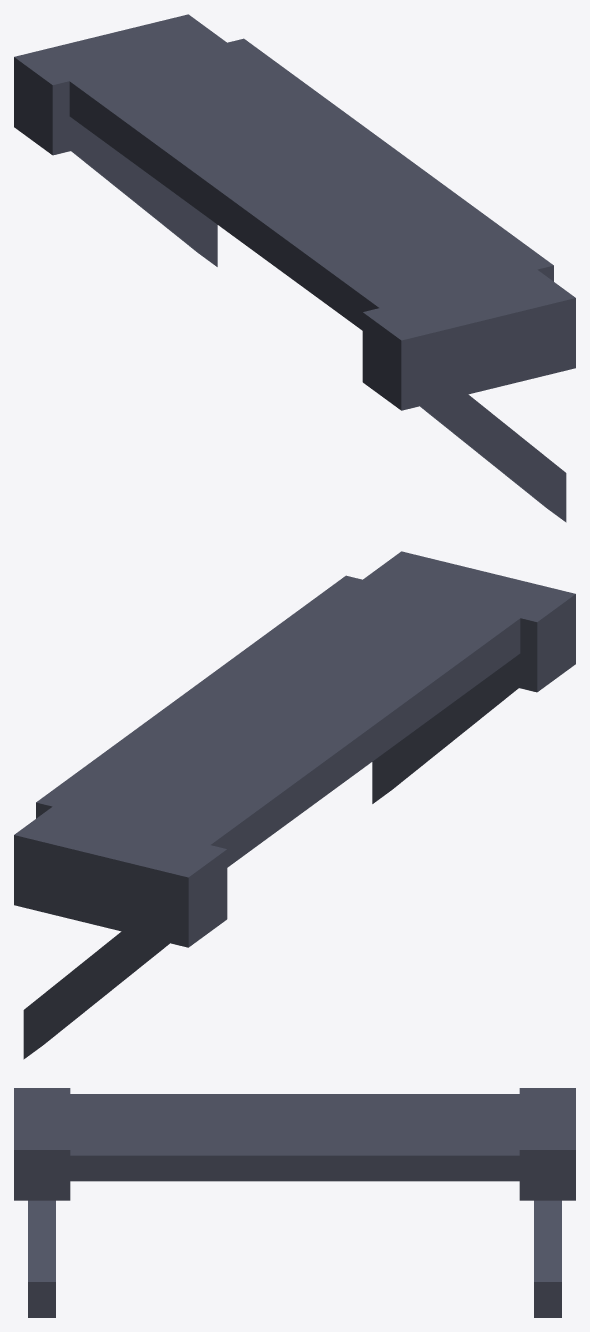
The model's file is overhang.glb.
The picture shows the model from 3 angles, top to bottom: view 1: azimuth 30°, elevation 25°; view 2: azimuth 150°, elevation 25°; view 3: azimuth 270°, elevation 25°; orthographic projection. The views are drawn at different scales.
Visible parts, largest first — view 1: overhang; view 2: overhang; view 3: overhang.
Part boxes in pixels (x1,y1,x2,y2): overhang: (14,14,575,522); overhang: (14,551,575,1059); overhang: (14,1088,575,1317).
Bounding box in the file's own units: 0.285 × 0.33 × 1.
Materials: 1 (1 with a texture image).
